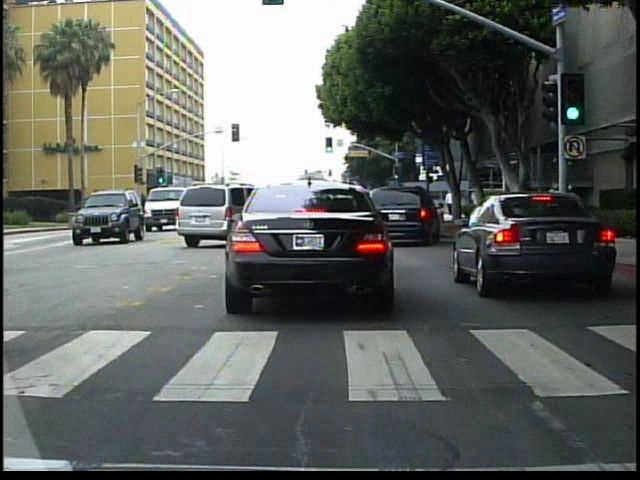person: (554, 175, 574, 234), (444, 187, 457, 218)
